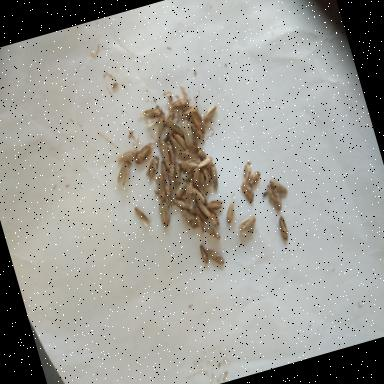pbw: (140, 154, 164, 180), (132, 141, 158, 165), (180, 181, 200, 212), (112, 160, 134, 186), (156, 200, 174, 228), (150, 174, 168, 202), (180, 206, 200, 231), (180, 118, 196, 148), (170, 178, 191, 200), (206, 244, 225, 268), (206, 164, 222, 192), (238, 214, 259, 235), (268, 175, 288, 197), (158, 139, 172, 170), (168, 134, 186, 158), (179, 156, 203, 174), (221, 200, 239, 224), (200, 103, 221, 123), (188, 116, 204, 142), (166, 115, 184, 138), (162, 182, 176, 210), (168, 96, 192, 112), (134, 202, 153, 222), (276, 214, 290, 241), (153, 116, 170, 138), (238, 160, 255, 182), (115, 148, 138, 164), (164, 140, 178, 166), (186, 141, 206, 159), (210, 213, 223, 240), (246, 170, 264, 189), (205, 197, 225, 214), (240, 180, 254, 204), (270, 188, 284, 212), (195, 182, 208, 207), (142, 106, 164, 120), (204, 224, 221, 242), (195, 155, 214, 169), (194, 213, 206, 235), (198, 243, 210, 264), (264, 184, 276, 204)
